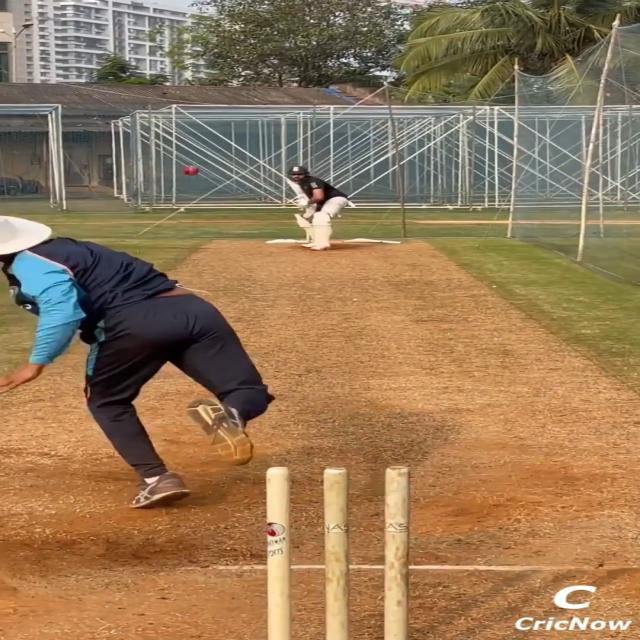ball: (183, 165, 200, 176)
stump: (265, 465, 409, 640)
